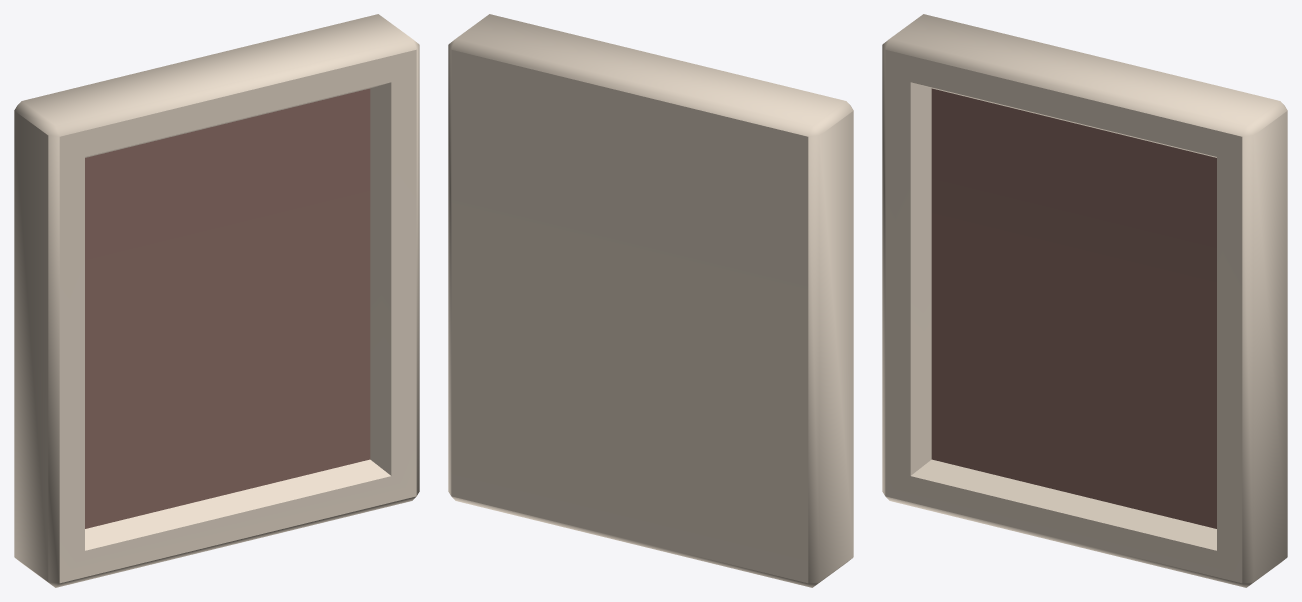
The model's file is pictureframe_large_A.obj.
The picture shows the model from 3 angles, left to right: view 1: azimuth 30°, elevation 25°; view 2: azimuth 150°, elevation 25°; view 3: azimuth 330°, elevation 25°; orthographic projection.
Visible parts, largest first — view 1: pictureframe_large_A_Cube.016; view 2: pictureframe_large_A_Cube.016; view 3: pictureframe_large_A_Cube.016.
Boxes of the visible parts, left/top/right/bottom form: pictureframe_large_A_Cube.016: left=14, top=14, right=419, bottom=587; pictureframe_large_A_Cube.016: left=448, top=14, right=853, bottom=587; pictureframe_large_A_Cube.016: left=882, top=14, right=1287, bottom=587.
Bounding box in the file's own units: 1.01 × 1.2 × 0.2.
1 material, 1 textured.
